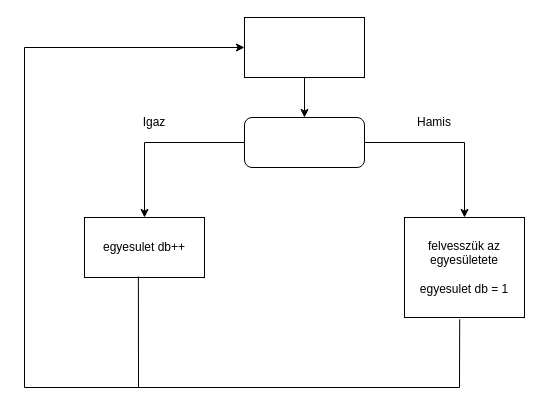
The diagram is 542 pixels wide and 413 high, and some of its shapes have lost their labels. Each missing label, with the centre of its shape:
"beolvasunk egy sort a fájlból" goes at point 304,47.
"vane-e ilyen egyesulet" goes at point 304,142.
